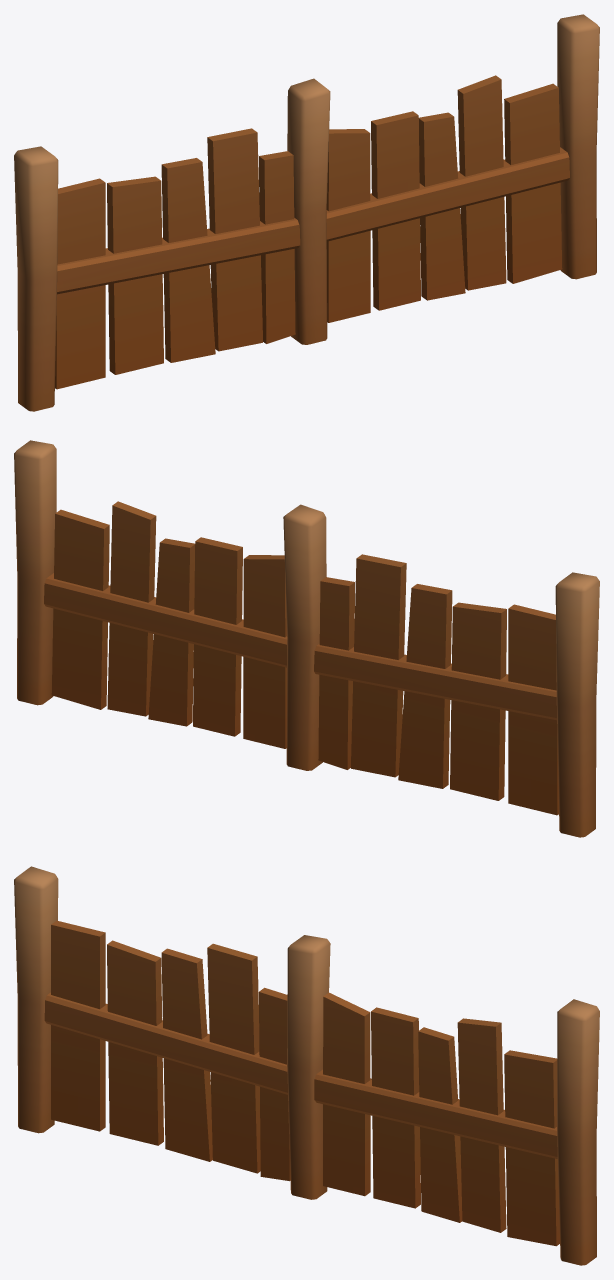
Rendered from WallFence_1_1_A.fbx.
The picture shows the model from 3 angles, top to bottom: view 1: azimuth 30°, elevation 25°; view 2: azimuth 150°, elevation 25°; view 3: azimuth 330°, elevation 25°; orthographic projection.
Visible parts, largest first — view 1: WallFence_1_1_A; view 2: WallFence_1_1_A; view 3: WallFence_1_1_A.
Part boxes in pixels (x1=…): WallFence_1_1_A: x1=14, y1=14, x2=599, y2=411; WallFence_1_1_A: x1=14, y1=440, x2=599, y2=837; WallFence_1_1_A: x1=14, y1=866, x2=599, y2=1265.
Bounding box in the file's own units: 210 × 88.03 × 11.27.
